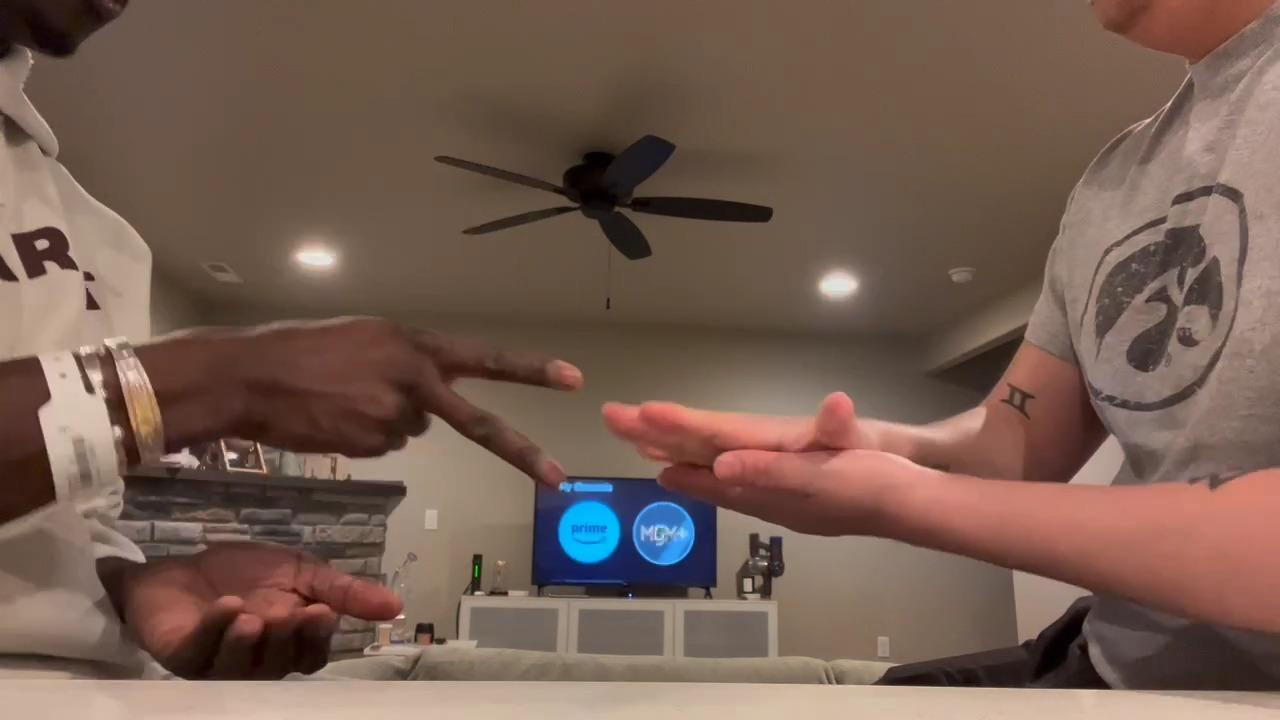Paper: (603, 391, 910, 452)
Scissors: (248, 314, 586, 491)
